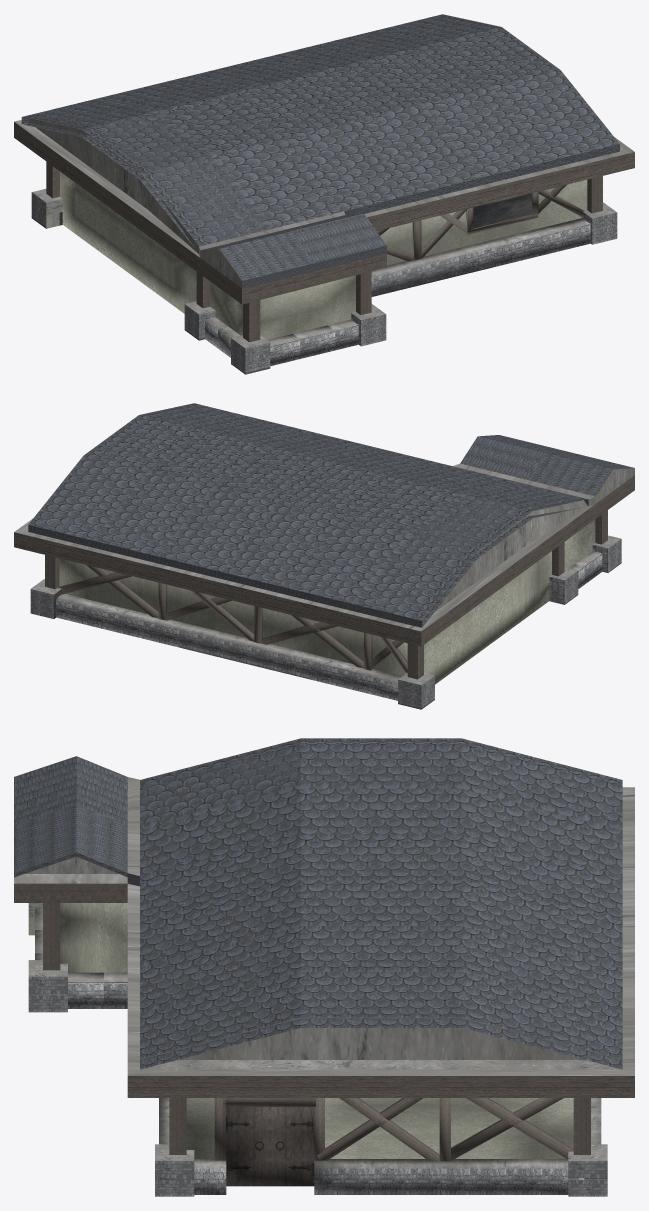
The model's file is Clinic.fbx.
The picture shows the model from 3 angles, top to bottom: view 1: azimuth 30°, elevation 25°; view 2: azimuth 150°, elevation 25°; view 3: azimuth 270°, elevation 25°; orthographic projection. The views are drawn at different scales.
Visible parts, largest first — view 1: Plane.002; view 2: Plane.002; view 3: Plane.002.
Boxes of the visible parts, left/top/right/bottom form: Plane.002: left=14, top=14, right=634, bottom=374; Plane.002: left=14, top=403, right=634, bottom=709; Plane.002: left=14, top=738, right=634, bottom=1196.
Size of the model in its own units: 5951 by 1701 by 5408.
1 material, 1 textured.
